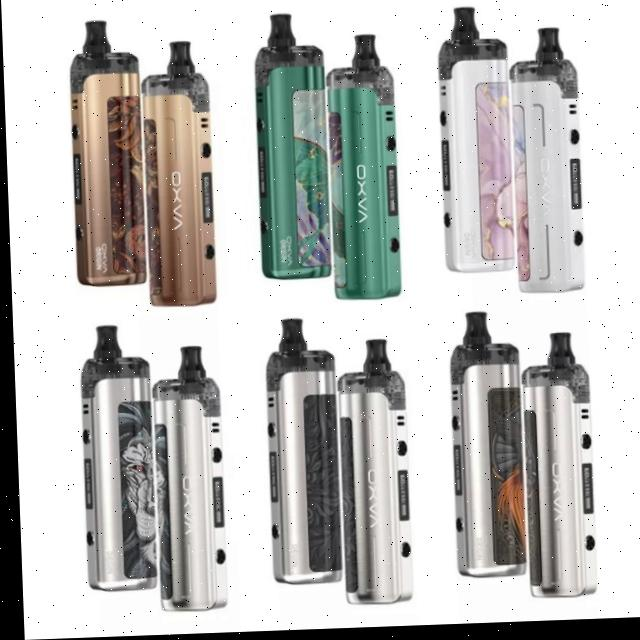vape: (66, 20, 143, 289), (251, 14, 328, 283), (435, 9, 512, 278), (445, 314, 522, 583), (260, 319, 337, 588), (75, 325, 152, 594), (516, 336, 593, 604), (333, 342, 410, 610), (148, 346, 224, 614), (139, 43, 215, 309), (324, 37, 400, 303), (507, 31, 583, 297)
